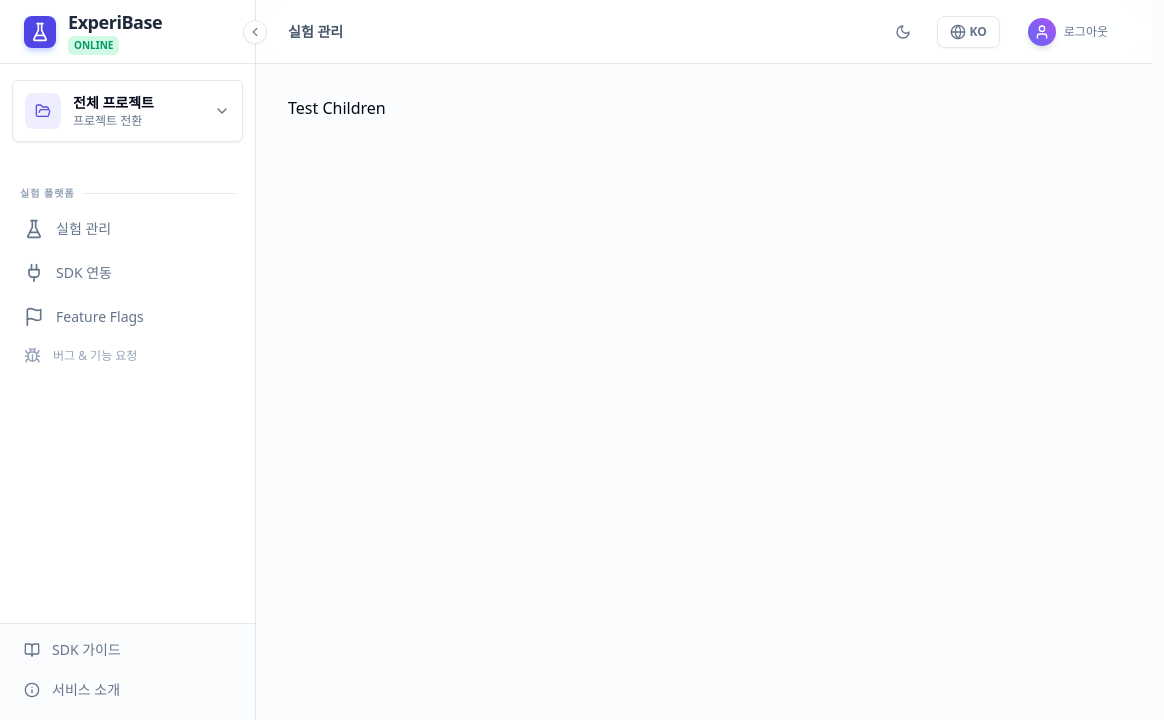
Test: MainLayout Component › can reopen project controls from the collapsed sidebar
Click the button named "Toggle sidebar" at (255, 32), box [243,20,267,44]
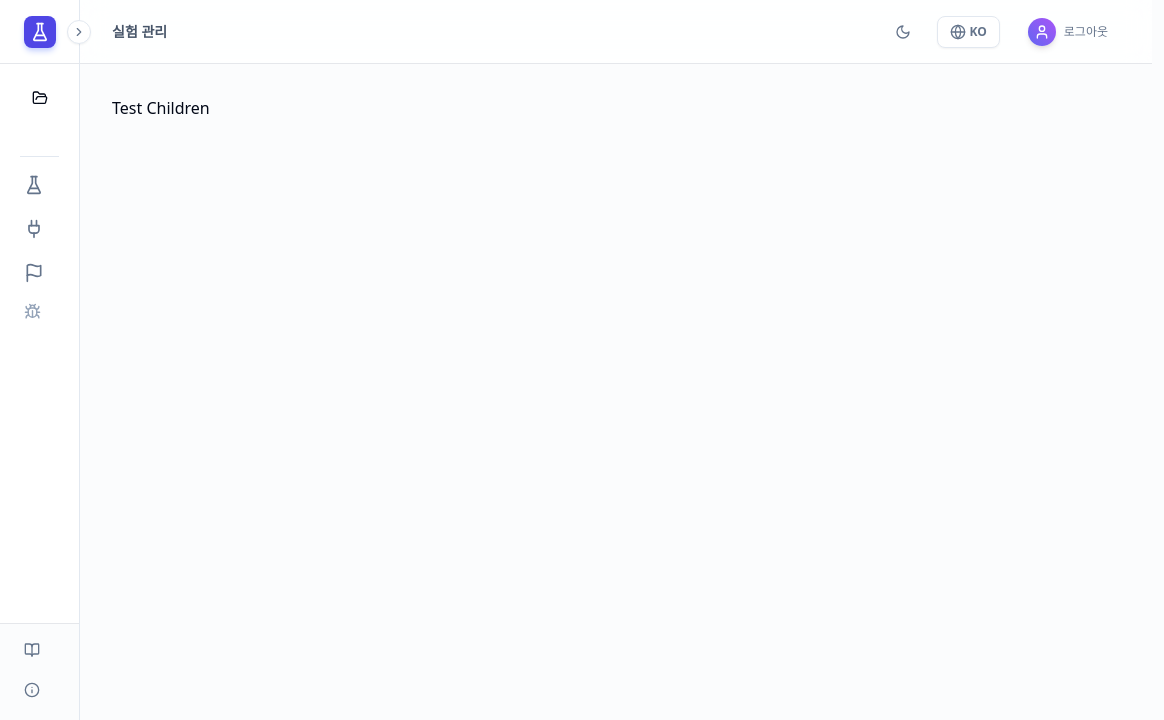
Click the button named "프로젝트를 선택하세요" at (40, 98), box [12,80,67,116]
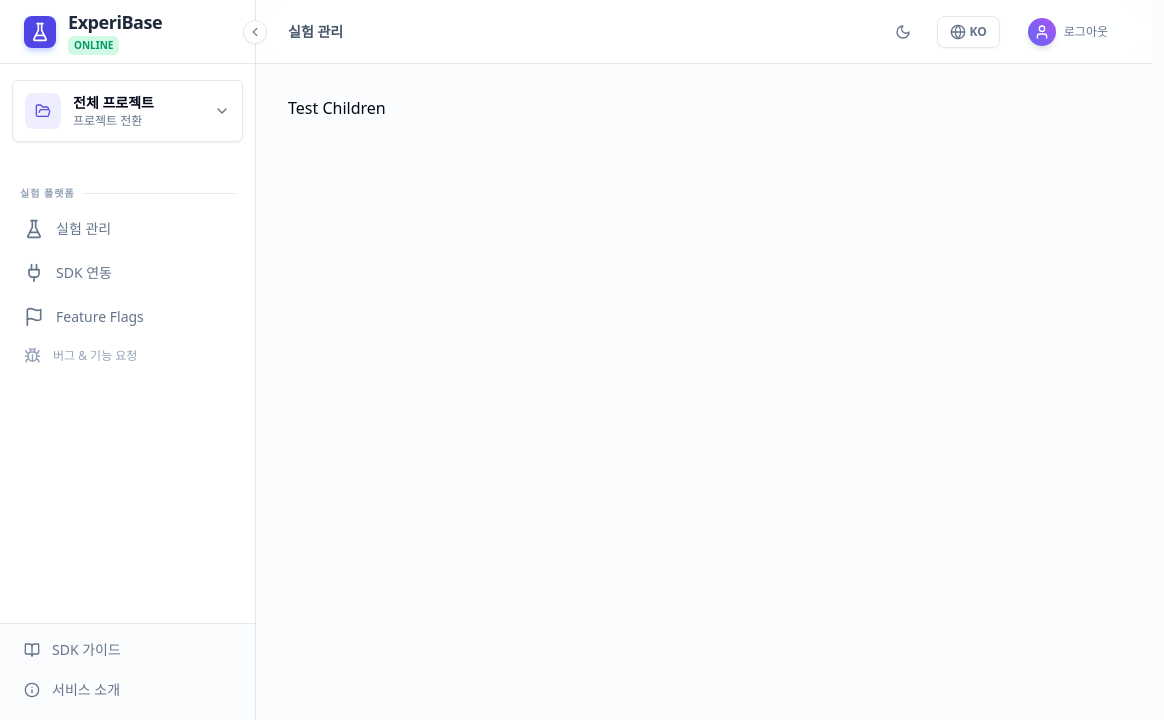
Press Enter in the button with aria-label "프로젝트를 선택하세요", box [12,80,243,142]
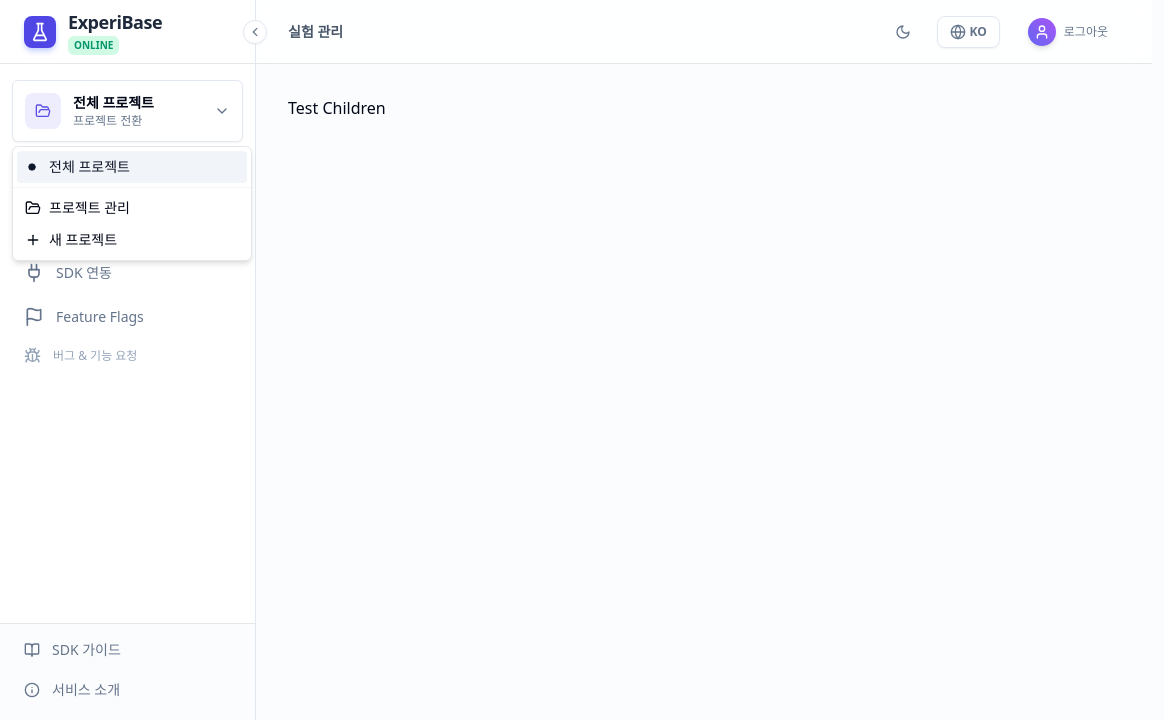
Check: the menu item "새 프로젝트" is shown, box [25,230,117,249]
Check: the menu item "프로젝트 관리" is shown, box [25,198,130,217]
